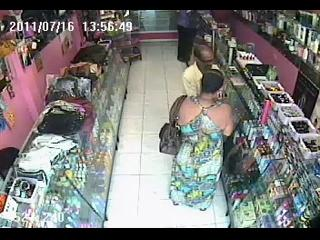Normal: (166, 68, 238, 211), (182, 44, 216, 98), (158, 103, 186, 156), (176, 11, 202, 68), (120, 46, 142, 64)
